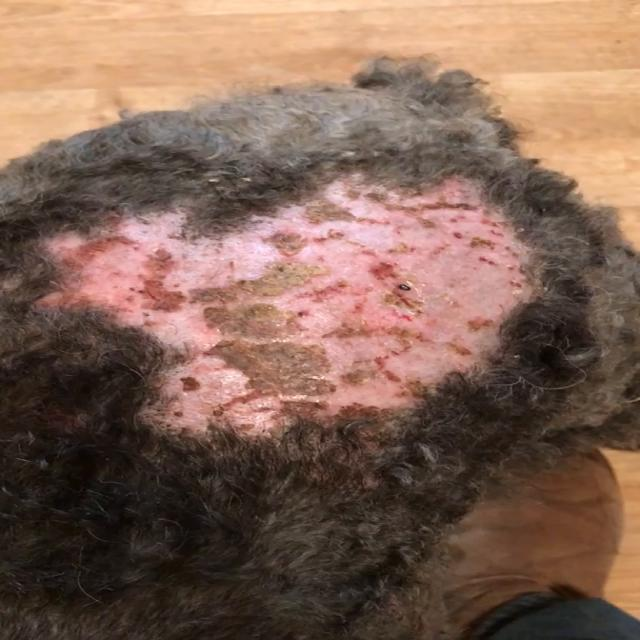allergic dermatitis: (43, 154, 526, 448)
